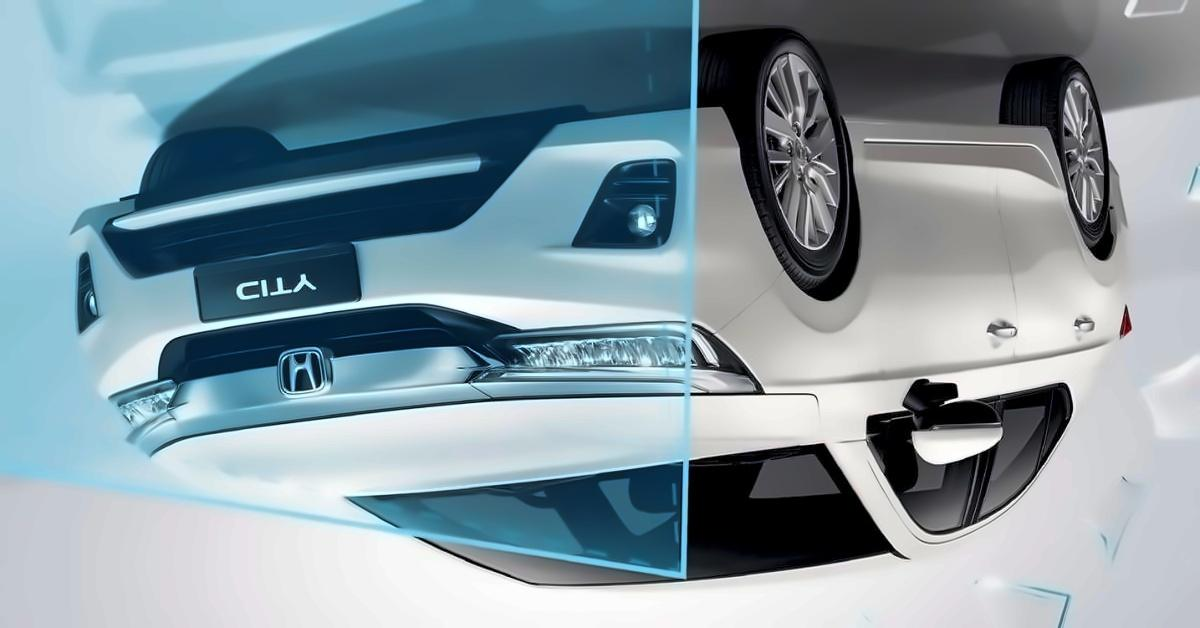Car hood: (142, 390, 828, 503)
Driver-s door - -F-R-: (877, 132, 1020, 561)
Fender - -F-R-: (715, 118, 874, 445)
Fender - -R-R-: (1013, 136, 1110, 518)
Front bumper: (52, 98, 784, 313)
Headlight - -L-: (96, 372, 201, 462)
Headlight - -R-: (466, 304, 777, 405)
Rear light - -R-: (1110, 296, 1148, 354)
Side bumper - -R-: (828, 110, 1075, 162)
Side mirror - -R-: (890, 368, 1015, 478)
